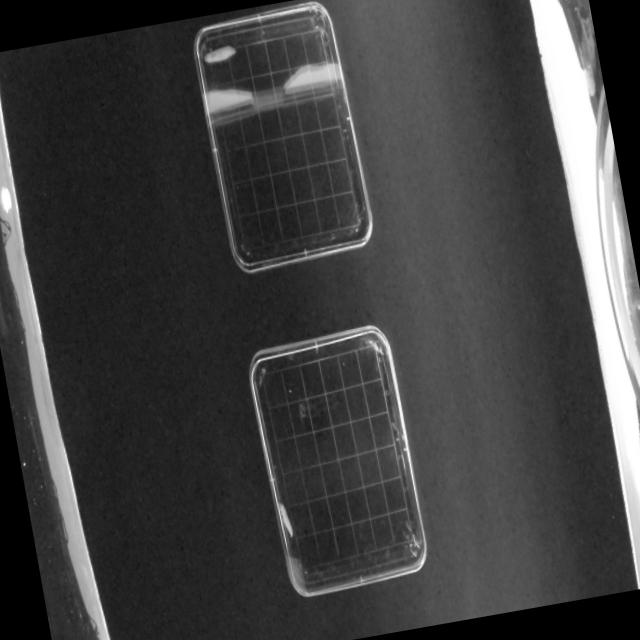larva: (275, 494, 297, 540), (200, 42, 238, 67)
